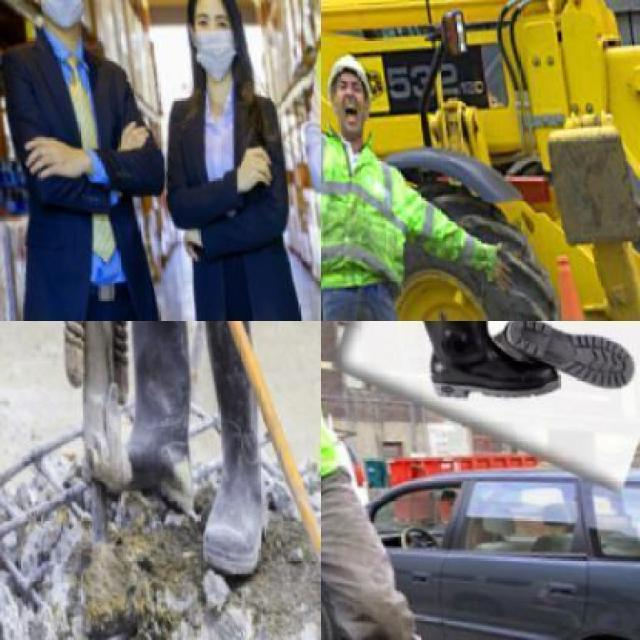Vest: (320, 117, 417, 308)
